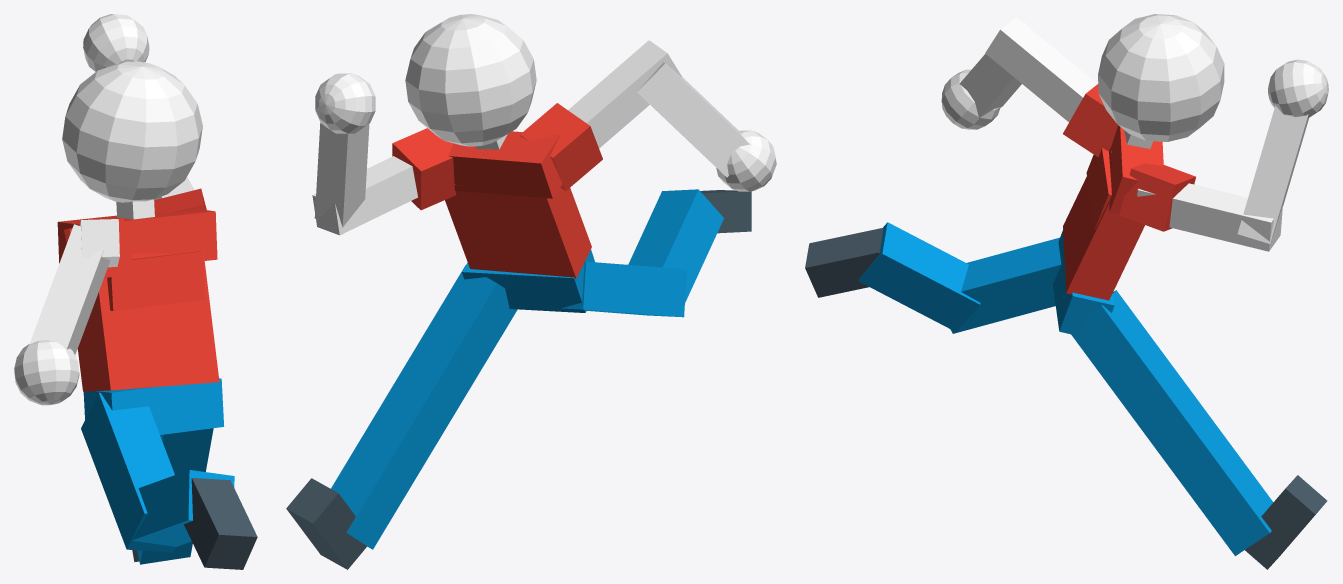
Rendered from Running.glb.
The picture shows the model from 3 angles, left to right: view 1: azimuth 30°, elevation 25°; view 2: azimuth 150°, elevation 25°; view 3: azimuth 270°, elevation 25°; orthographic projection. The views are drawn at different scales.
Parts seen in each view (by area): view 1: group150976227; view 2: group150976227; view 3: group150976227.
Part boxes in pixels (x1,y1,x2,y2): group150976227: (14, 14, 257, 569); group150976227: (286, 14, 776, 569); group150976227: (805, 14, 1328, 569).
Size of the model in its own units: 1.16 by 1.86 by 1.75.
